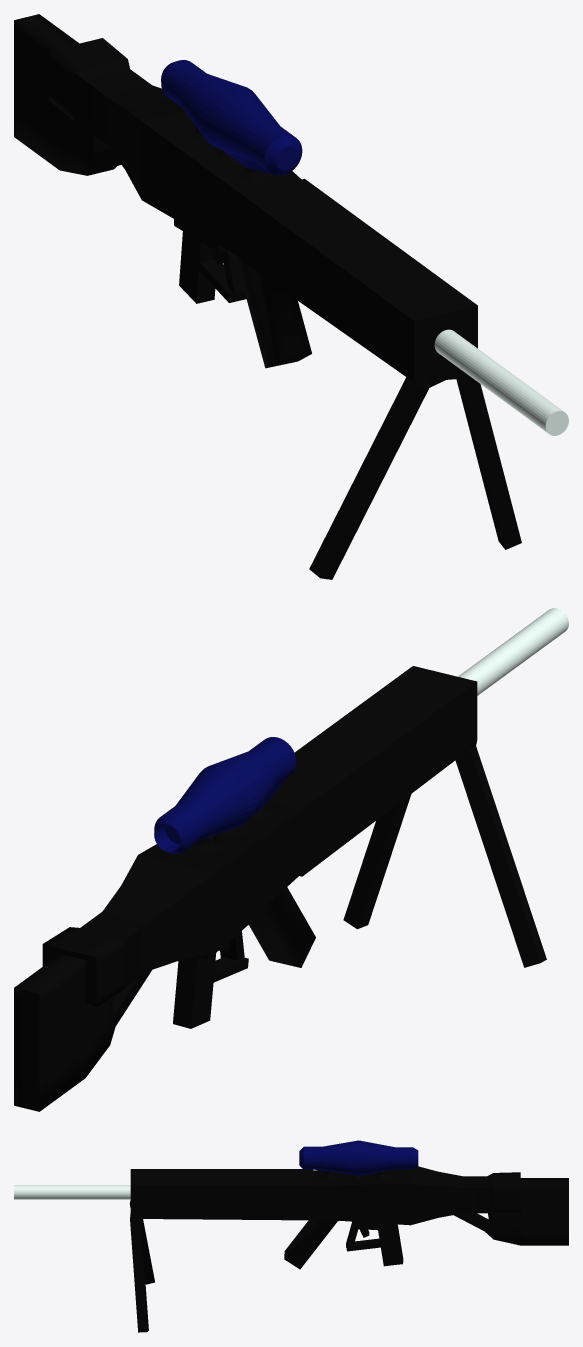
The model's file is DMR.fbx.
3 views of the same model, one above another, from view 1: azimuth 30°, elevation 25°; view 2: azimuth 150°, elevation 25°; view 3: azimuth 270°, elevation 25° (orthographic). The views are drawn at different scales.
Visible parts, largest first — view 1: Cube, Cylinder, Cylinder.002; view 2: Cube, Cylinder, Cylinder.002; view 3: Cube, Cylinder, Cylinder.002.
Boxes of the visible parts, bbox=[...] form: Cube: bbox=[14, 14, 521, 579]; Cylinder: bbox=[161, 60, 302, 175]; Cylinder.002: bbox=[434, 329, 568, 435]; Cube: bbox=[14, 666, 546, 1111]; Cylinder: bbox=[154, 737, 296, 853]; Cylinder.002: bbox=[458, 608, 568, 695]; Cube: bbox=[129, 1166, 568, 1332]; Cylinder: bbox=[299, 1140, 418, 1175]; Cylinder.002: bbox=[14, 1185, 130, 1199].
Size of the model in its own units: 207 by 322 by 942.
